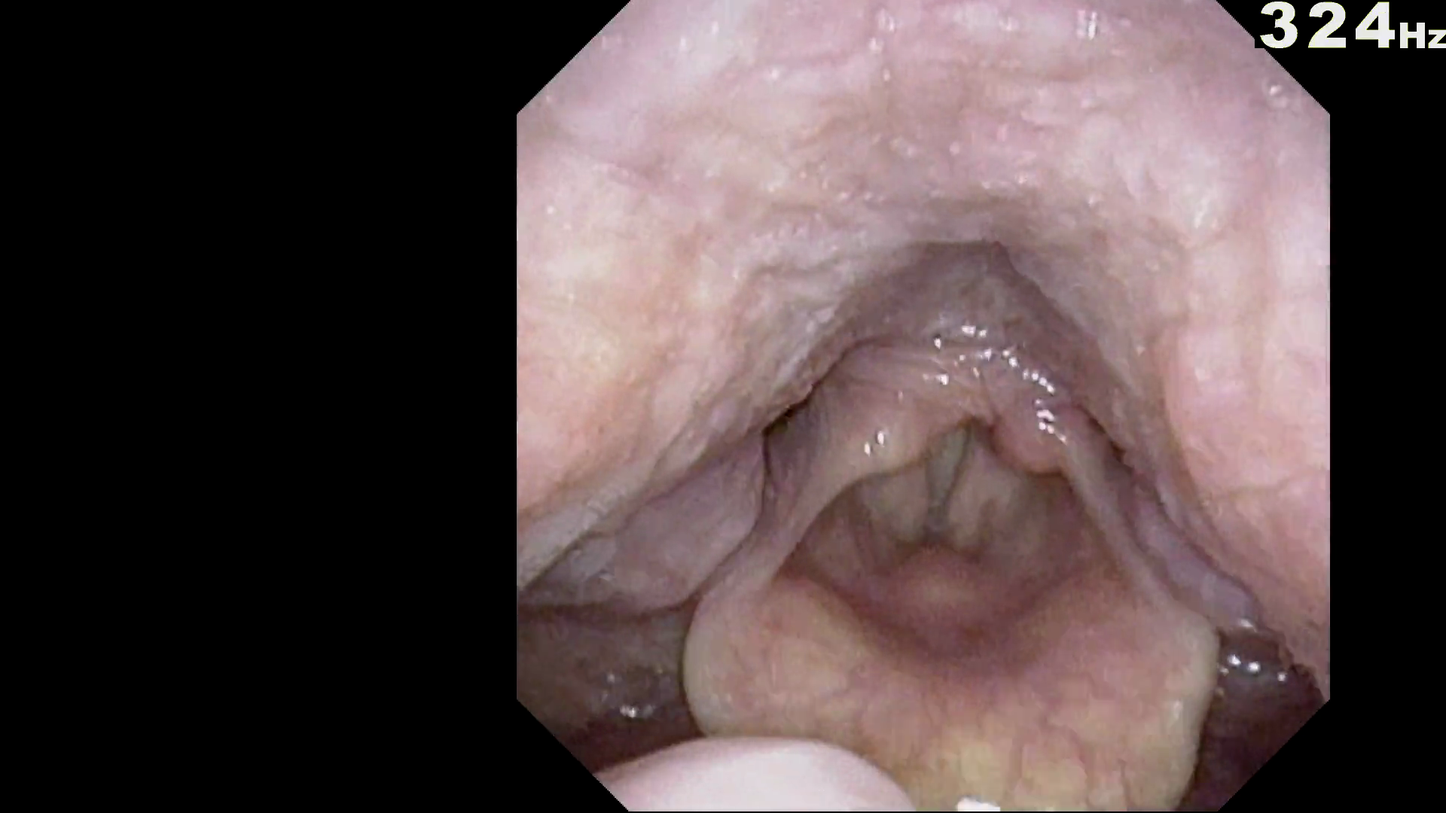epiglottis: (707, 624, 1206, 789)
trachea: (904, 452, 1035, 597)
